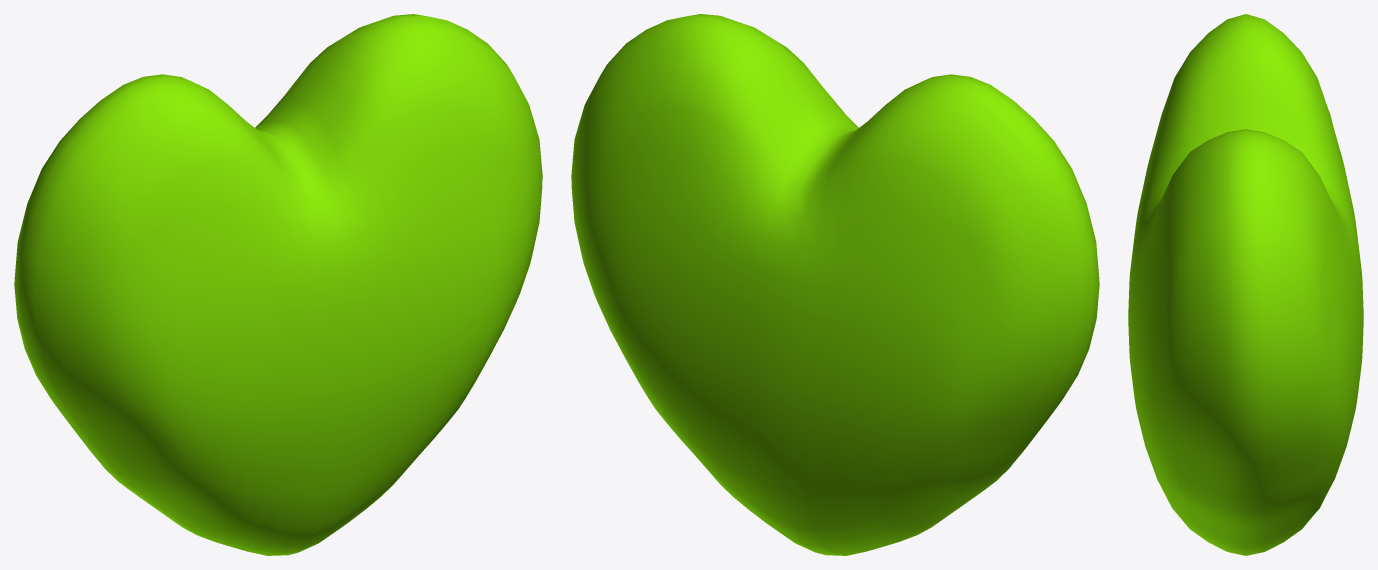
The model's file is Heart.fbx.
3 views of the same model, side by side, from view 1: azimuth 30°, elevation 25°; view 2: azimuth 150°, elevation 25°; view 3: azimuth 270°, elevation 25° (orthographic). The views are drawn at different scales.
Visible parts, largest first — view 1: Cube; view 2: Cube; view 3: Cube.
Boxes of the visible parts, box(x1,y1,x2,y2) form: Cube: box(14, 14, 542, 555); Cube: box(571, 14, 1099, 555); Cube: box(1128, 14, 1363, 555).
Bounding box in the file's own units: 295 × 274 × 125.
